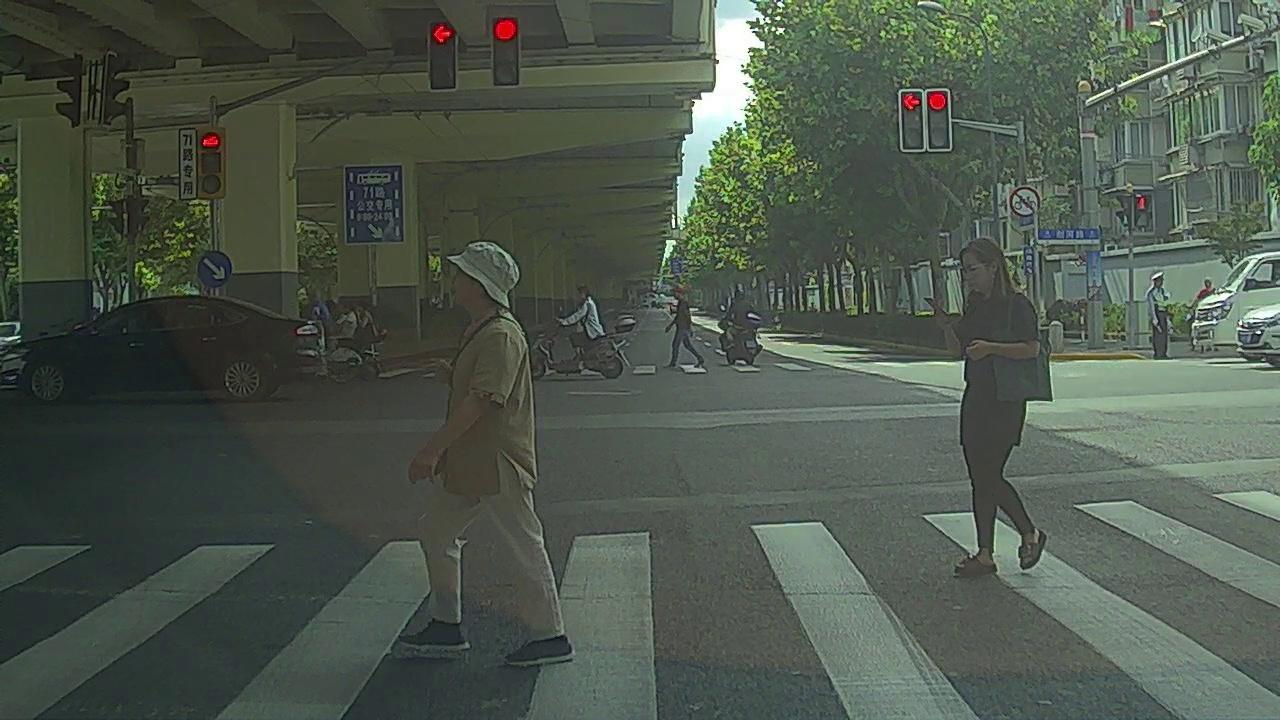traffic_light: (493, 17, 521, 86), (430, 19, 457, 86), (926, 88, 952, 148), (899, 92, 923, 149)
